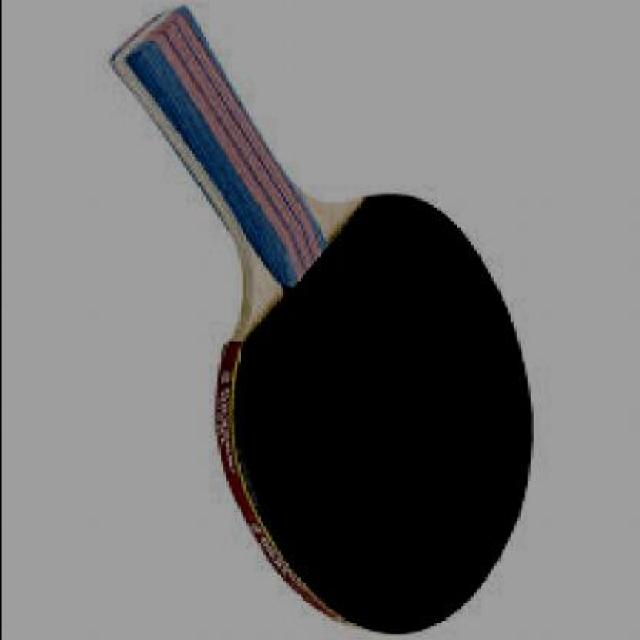table_tennis_racket: (206, 194, 542, 640)
